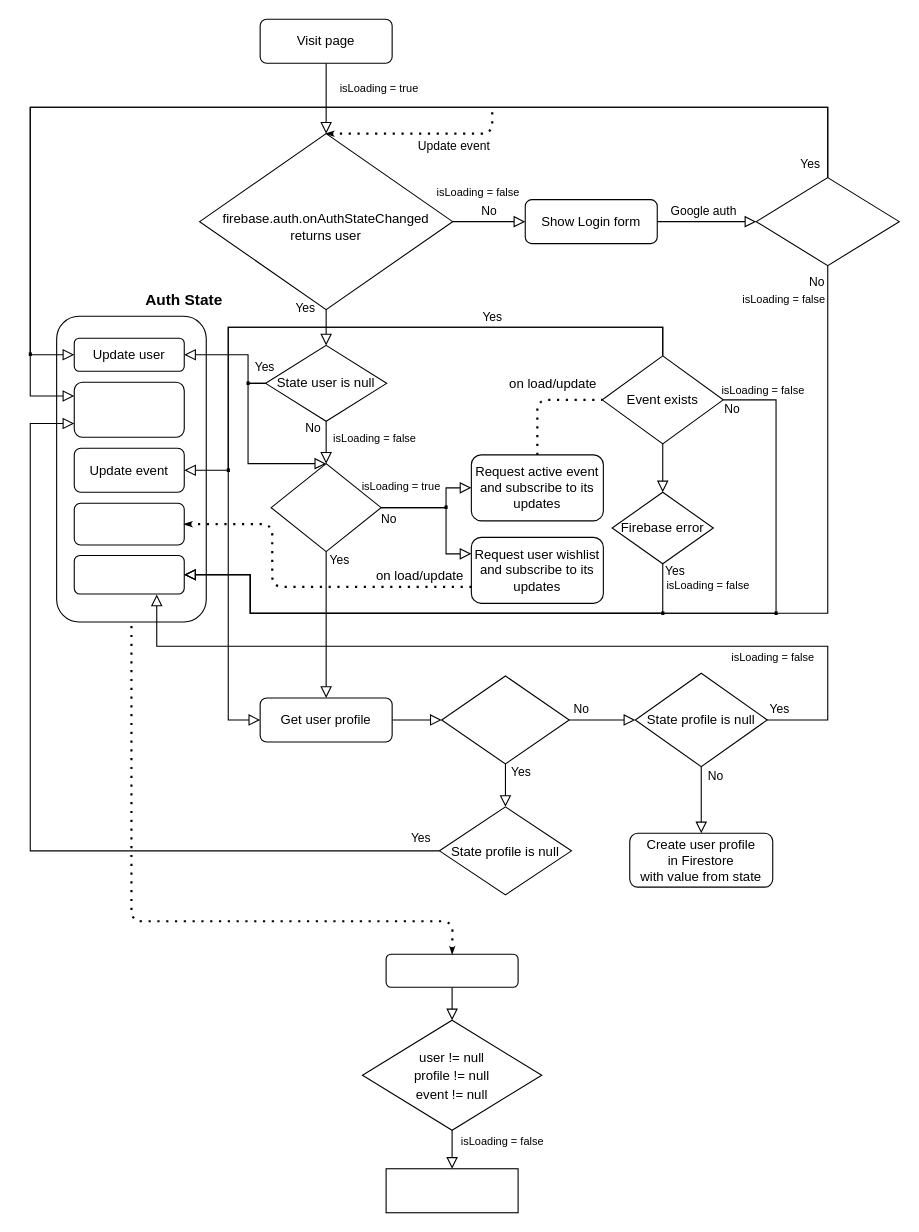
Image size: 919x1232. Some labels were removed from this diagram. Here are the shapes that lost their labels. From the top down, the centre of each, then its label:
At pixel 827 221: "Authenticated with Google".
At pixel 128 409: "Update profile".
At pixel 128 523: "Update wishlist".
At pixel 325 507: "Event Loaded".
At pixel 128 574: "Update error".
At pixel 505 719: "User profile exists in Firestore".
At pixel 451 970: "On state update".
At pixel 451 1190: "Authenticated".
